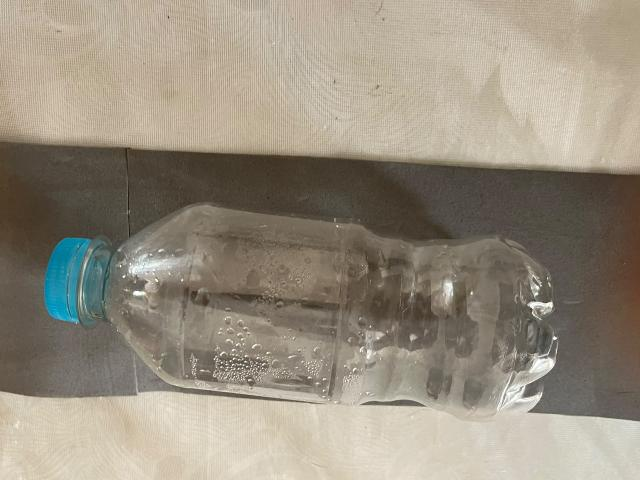PET: (21, 174, 633, 472)
